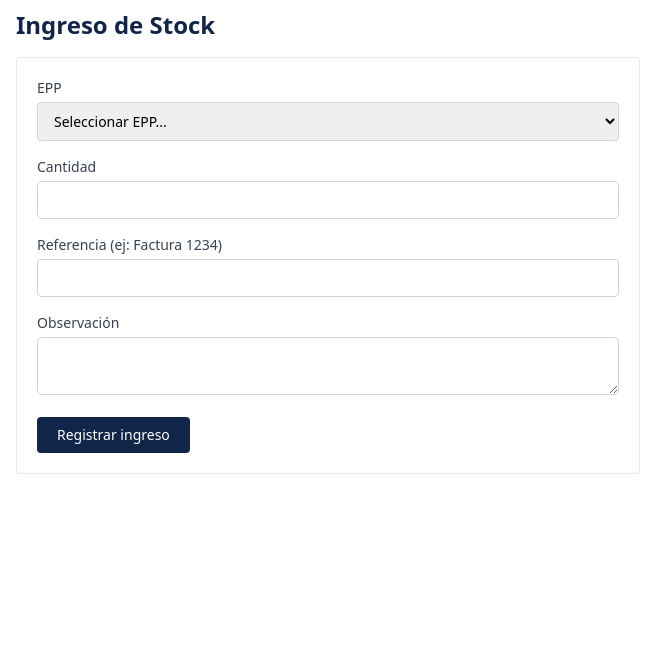
Test: IngresoStock › al seleccionar EPP carga el historial desde {epp, movimientos}
The width and height of the screenshot is (657, 650).
Step 1. Select "Casco" in the dropdown → (328, 122), box [37,102,619,141]
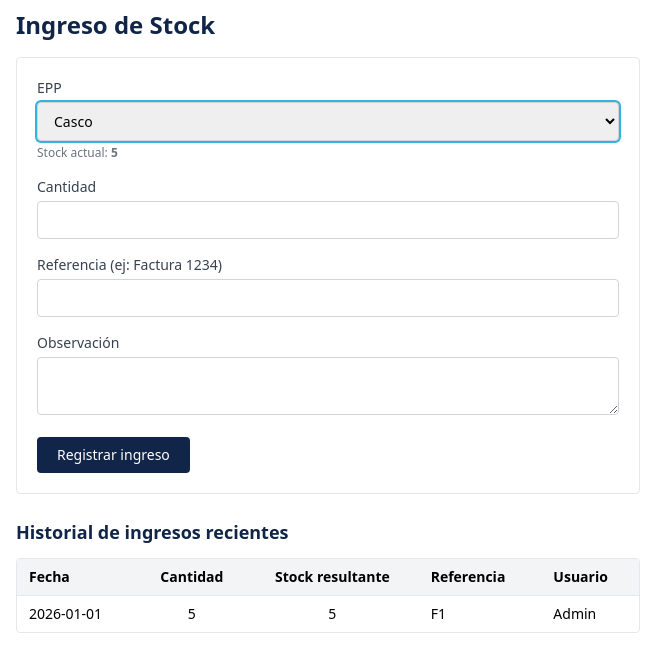
Now the text "Admin" is shown, box [541,596,639,632]
